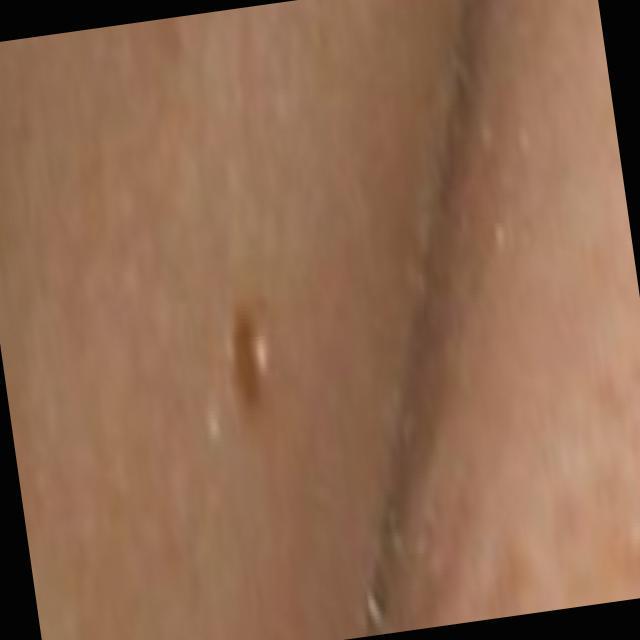blackhead: (217, 300, 282, 426)
